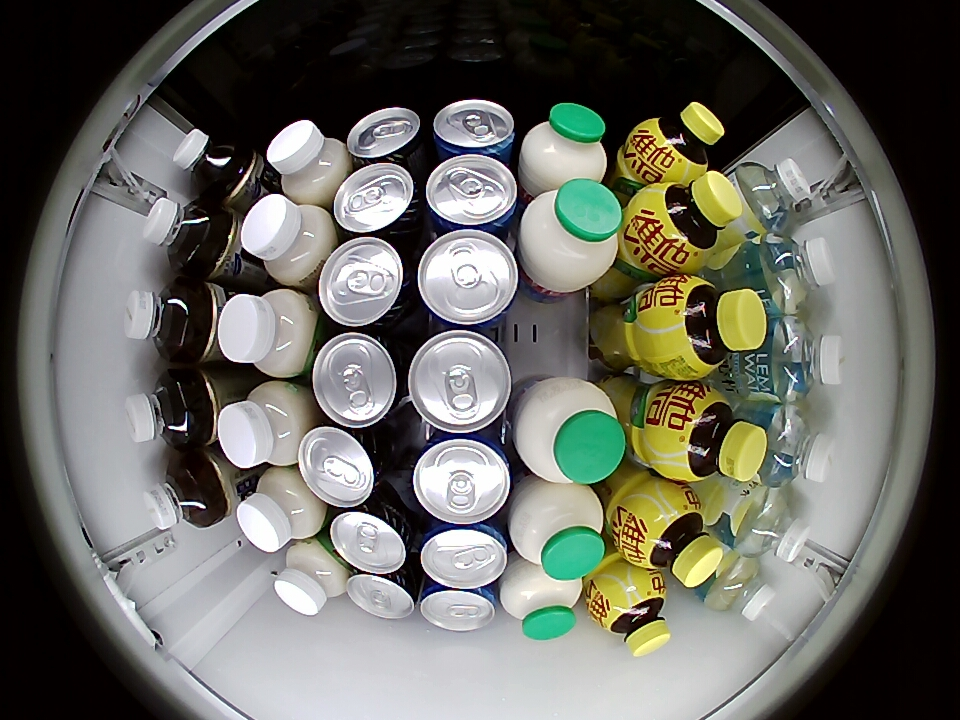liziyuan: (513, 376, 626, 485), (518, 179, 623, 292), (509, 479, 607, 581), (519, 102, 608, 192), (500, 560, 582, 641)
qingdaowangzi-1: (311, 331, 410, 427), (318, 237, 417, 330), (298, 423, 393, 506), (334, 162, 422, 239), (328, 498, 415, 574), (347, 107, 427, 168), (346, 566, 419, 620)
qingdaowangzi-2: (407, 329, 513, 435), (416, 229, 519, 330), (412, 432, 513, 525), (423, 154, 520, 234), (419, 519, 508, 589), (431, 99, 517, 161), (419, 580, 498, 632)
qinningshui: (763, 317, 846, 402), (756, 405, 835, 487), (733, 157, 813, 236), (756, 235, 837, 313), (729, 488, 811, 563), (704, 554, 776, 621)
weitaningmeng-bottle: (655, 275, 768, 379), (659, 385, 769, 483), (621, 486, 725, 589), (639, 171, 743, 271), (636, 101, 724, 180), (594, 575, 671, 657)
wulongcha: (124, 279, 199, 361), (124, 372, 197, 448), (143, 458, 218, 530), (143, 197, 215, 271), (173, 128, 241, 195)
yousuanru: (219, 288, 317, 378), (241, 195, 335, 286), (218, 380, 313, 468), (236, 467, 326, 552), (267, 120, 351, 205), (273, 539, 348, 616)
